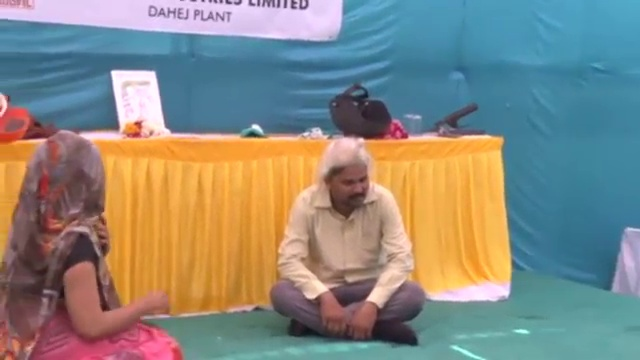helmet_off: (16, 135, 107, 219), (323, 138, 374, 210)
person: (1, 132, 188, 359), (269, 137, 426, 347)
